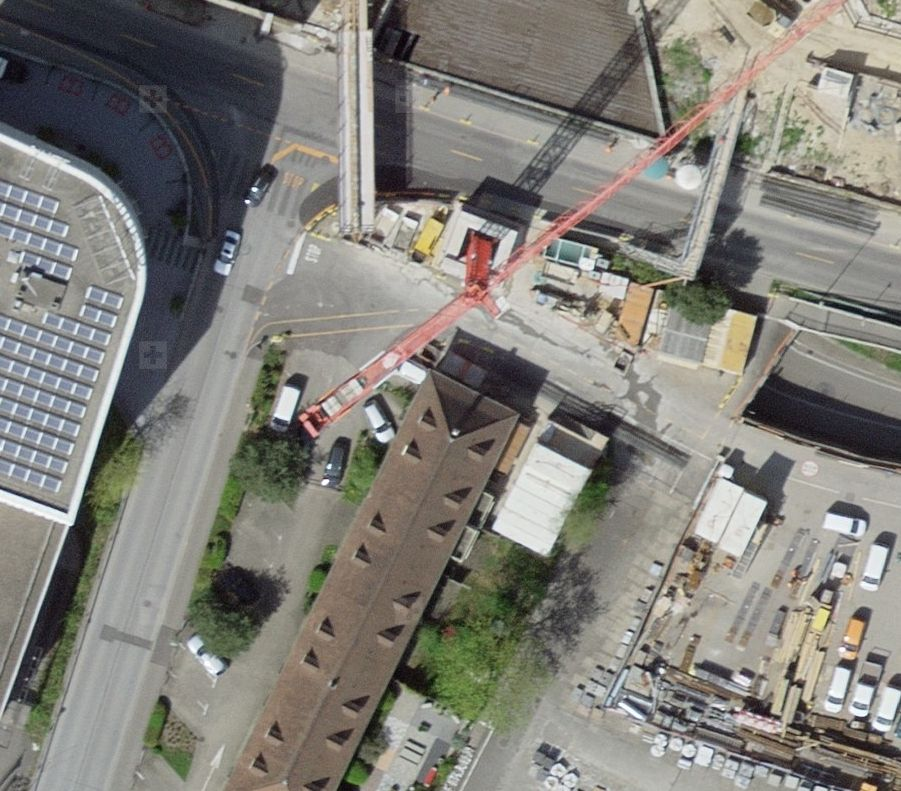solar: (1, 181, 126, 492)
